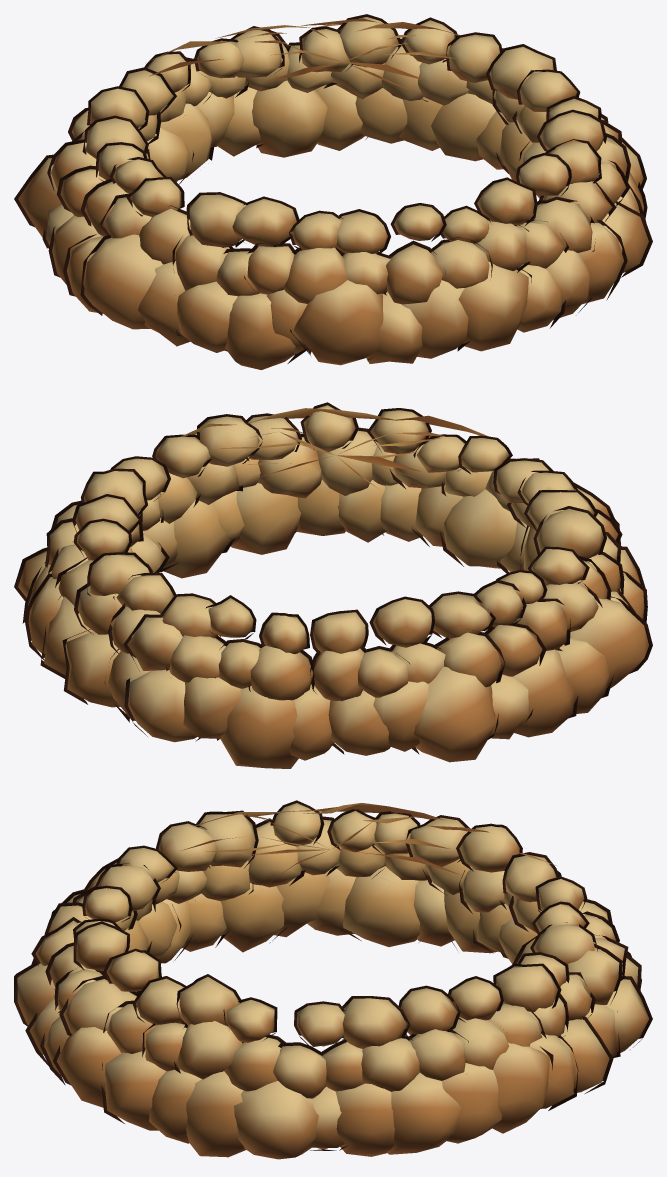
Rendered from wx_sand.glb.
The picture shows the model from 3 angles, top to bottom: view 1: azimuth 30°, elevation 25°; view 2: azimuth 150°, elevation 25°; view 3: azimuth 270°, elevation 25°; orthographic projection.
Visible parts, largest first — view 1: wx_sand_wall, wx_sand_billow; view 2: wx_sand_wall, wx_sand_billow; view 3: wx_sand_wall, wx_sand_billow.
Part boxes in pixels (bbox=[...]): wx_sand_wall: bbox=[14, 18, 652, 369]; wx_sand_billow: bbox=[82, 14, 606, 254]; wx_sand_wall: bbox=[14, 408, 652, 768]; wx_sand_billow: bbox=[72, 402, 606, 654]; wx_sand_wall: bbox=[14, 803, 652, 1159]; wx_sand_billow: bbox=[73, 800, 597, 1048].
Bounding box in the file's own units: 422 × 148 × 412.
